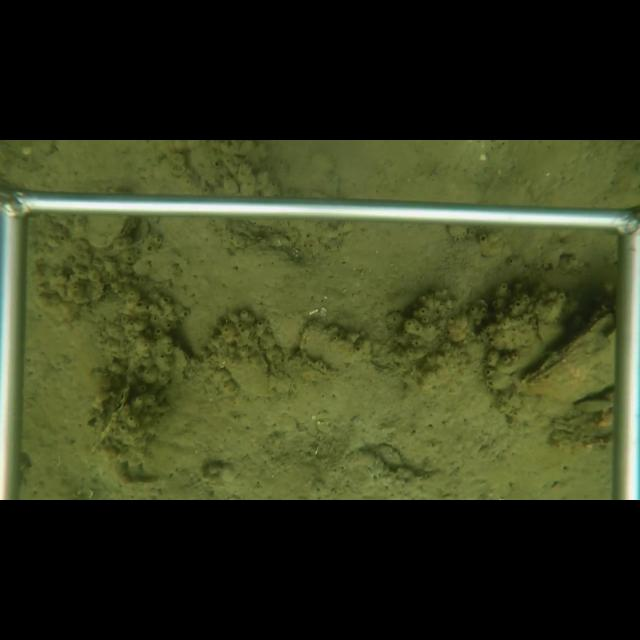Oyster-Closed: (519, 305, 615, 405), (300, 317, 371, 377), (89, 375, 133, 455), (87, 214, 138, 249), (254, 334, 274, 394), (117, 219, 154, 250), (171, 343, 194, 385), (368, 442, 403, 469)
